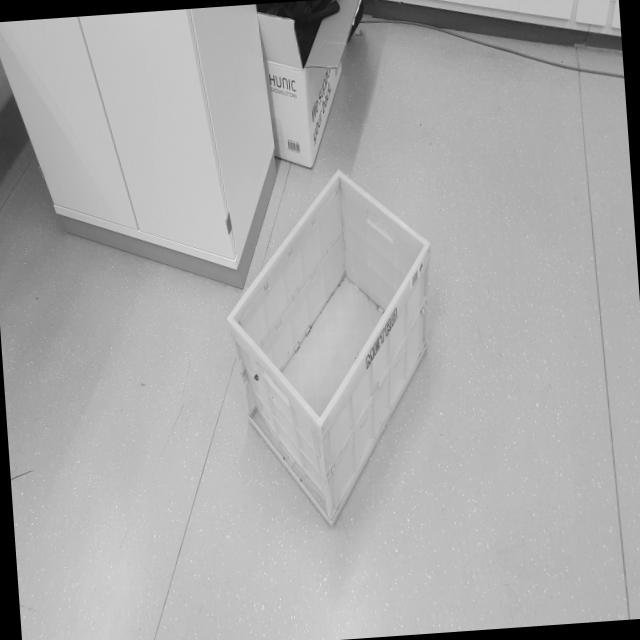box: (213, 157, 452, 542)
